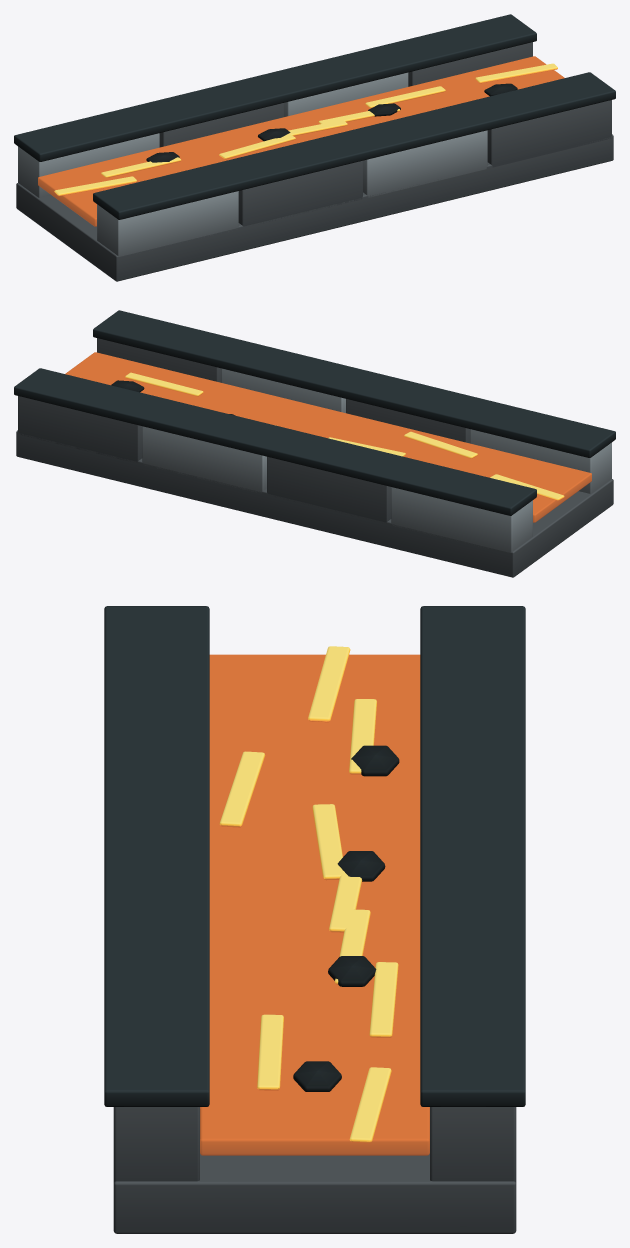
File: lava_trough.glb
The picture shows the model from 3 angles, top to bottom: view 1: azimuth 30°, elevation 25°; view 2: azimuth 150°, elevation 25°; view 3: azimuth 270°, elevation 25°; orthographic projection. The views are drawn at different scales.
Parts seen in each view (by area): view 1: lava_trough; view 2: lava_trough; view 3: lava_trough.
Boxes of the visible parts, left/top/right/bottom form: lava_trough: left=14, top=14, right=615, bottom=281; lava_trough: left=14, top=310, right=615, bottom=577; lava_trough: left=104, top=606, right=525, bottom=1233.
Size of the model in its own units: 6.1 by 0.83 by 2.2.
3 materials, 3 textured.
